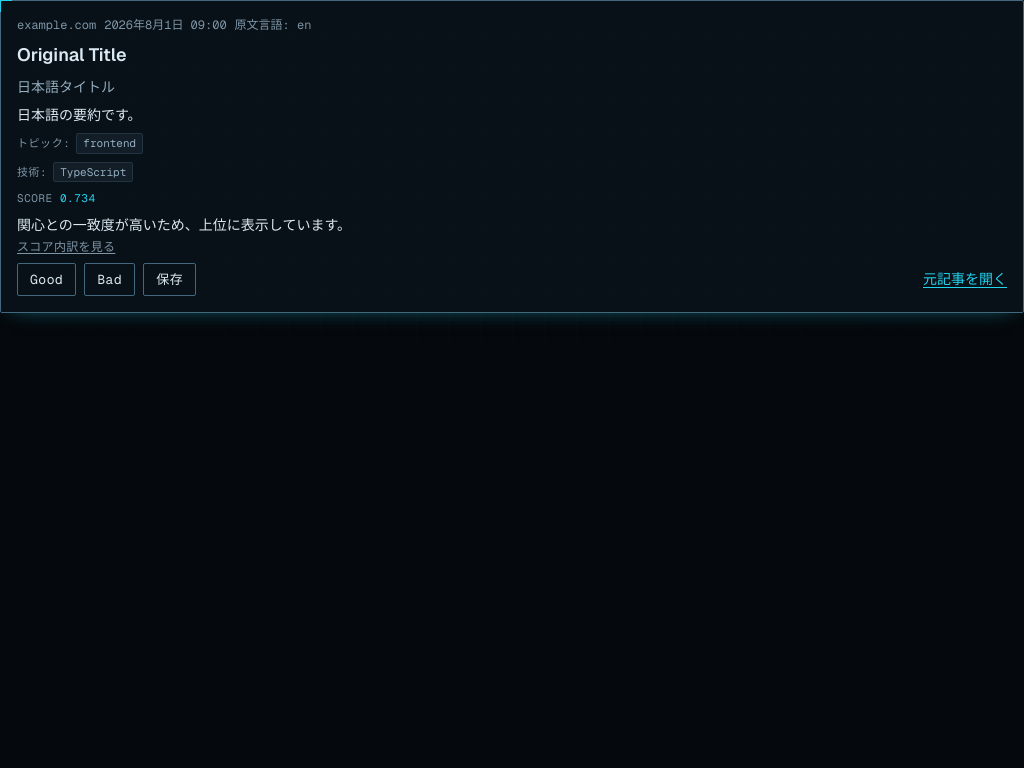
Test: ArticleCard › opens the reason picker when the Bad button is pressed
This screenshot has width=1024, height=768.
Click the button "Bad".
click(110, 279)  # box top-left (84, 262), bottom-right (135, 296)
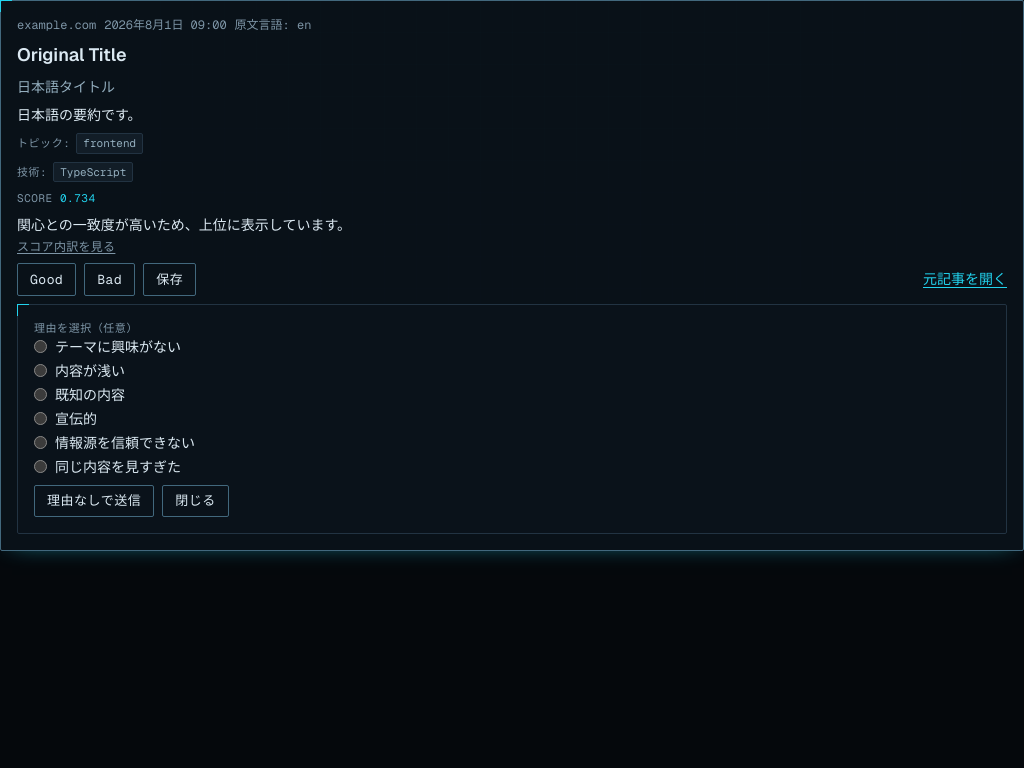
Now the radio button labelled "内容が浅い" is shown, box top-left (34, 364), bottom-right (47, 377)
